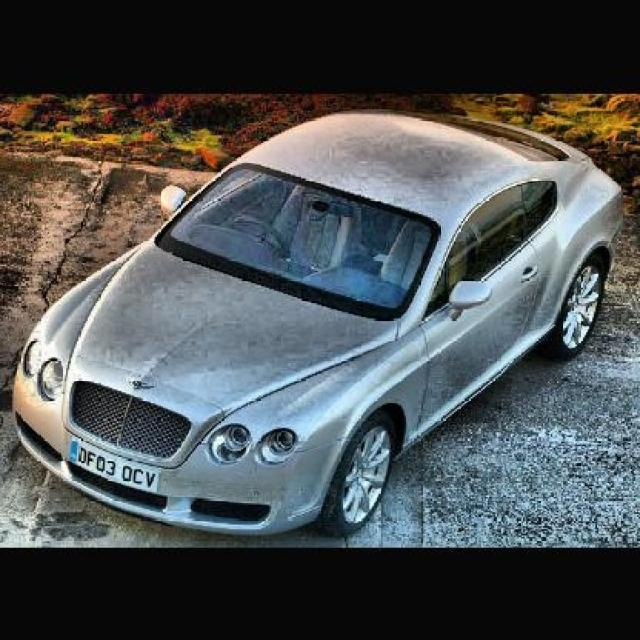silver: (13, 109, 623, 536)
